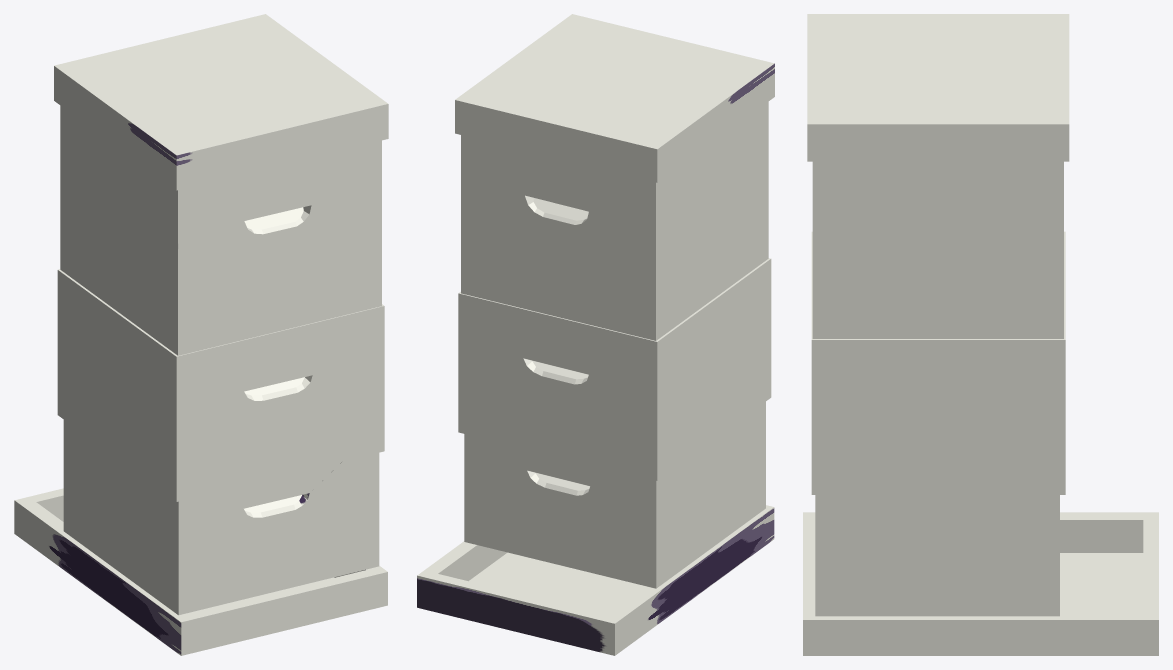
The model's file is beebox.fbx.
The picture shows the model from 3 angles, left to right: view 1: azimuth 30°, elevation 25°; view 2: azimuth 150°, elevation 25°; view 3: azimuth 270°, elevation 25°; orthographic projection. The views are drawn at different scales.
Visible parts, largest first — view 1: Cube.001; view 2: Cube.001; view 3: Cube.001.
Part boxes in pixels (x1,y1,x2,y2): Cube.001: (14,14,388,655); Cube.001: (417,14,774,655); Cube.001: (803,14,1158,655).
Bounding box in the file's own units: 208 × 468 × 283.
